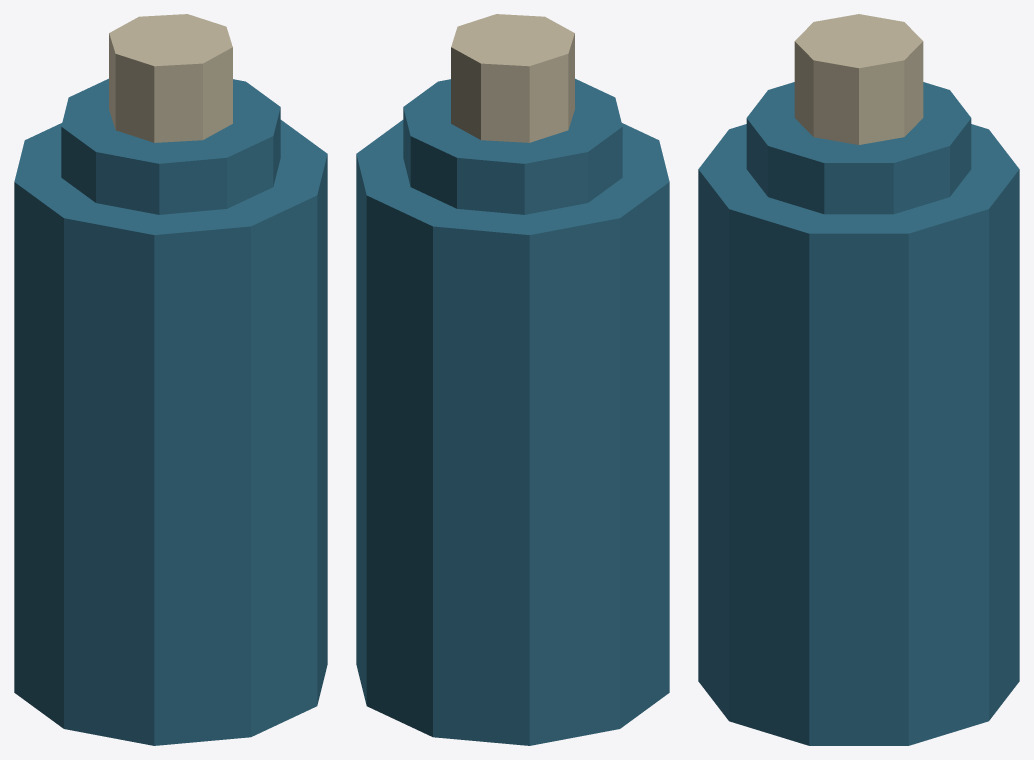
File: set_water_flask.glb
The picture shows the model from 3 angles, left to right: view 1: azimuth 30°, elevation 25°; view 2: azimuth 150°, elevation 25°; view 3: azimuth 270°, elevation 25°; orthographic projection.
Parts seen in each view (by area): view 1: set_water_flask; view 2: set_water_flask; view 3: set_water_flask.
Boxes of the visible parts, left/top/right/bottom form: set_water_flask: left=14, top=14, right=327, bottom=745; set_water_flask: left=356, top=14, right=669, bottom=745; set_water_flask: left=698, top=14, right=1019, bottom=745.
Size of the model in its own units: 0.0951 by 0.22 by 0.1.
